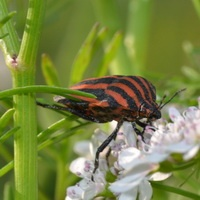insect: (37, 75, 163, 172)
